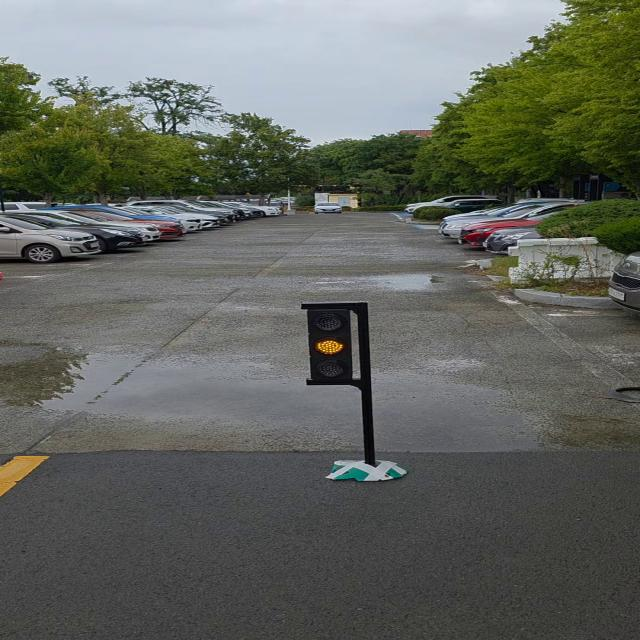yellow: (305, 306, 357, 385)
